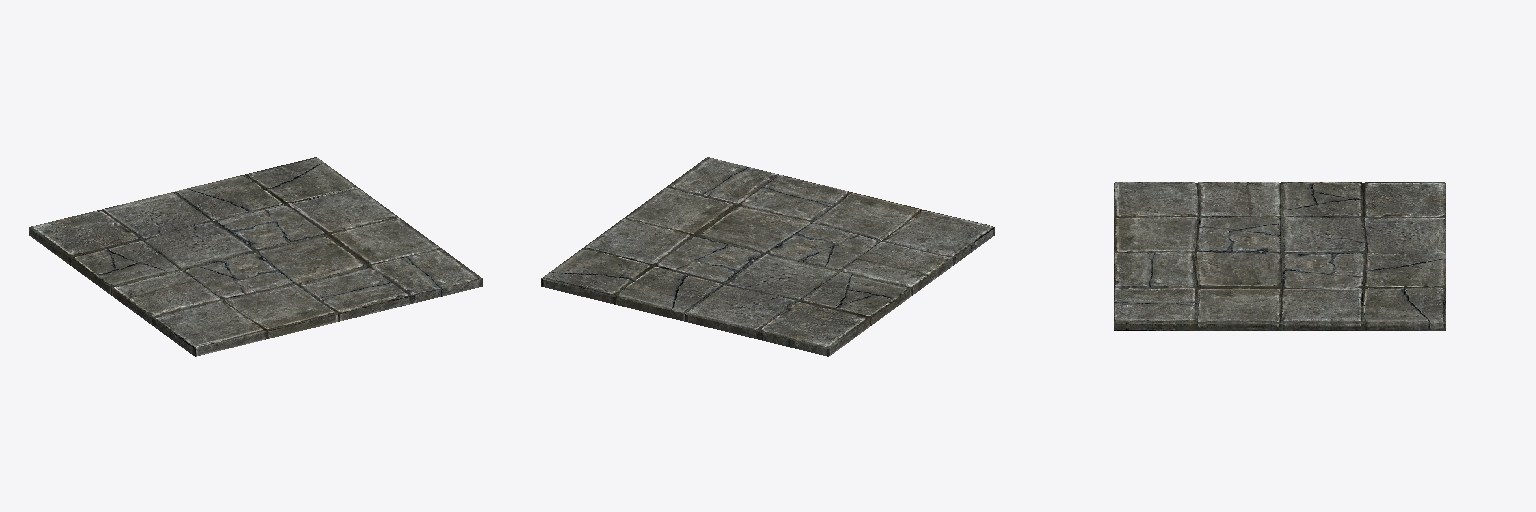
3 renders of one model, left to right at view 1: azimuth 30°, elevation 25°; view 2: azimuth 150°, elevation 25°; view 3: azimuth 270°, elevation 25°, orthographic.
Parts seen in each view (by area): view 1: Box001; view 2: Box001; view 3: Box001.
Boxes of the visible parts, x1=… form: Box001: x1=29, y1=157, x2=482, y2=356; Box001: x1=541, y1=157, x2=994, y2=356; Box001: x1=1114, y1=182, x2=1445, y2=330.
Bounding box in the file's own units: 2.01 × 0.0637 × 2.01.
1 materials, 1 textured.